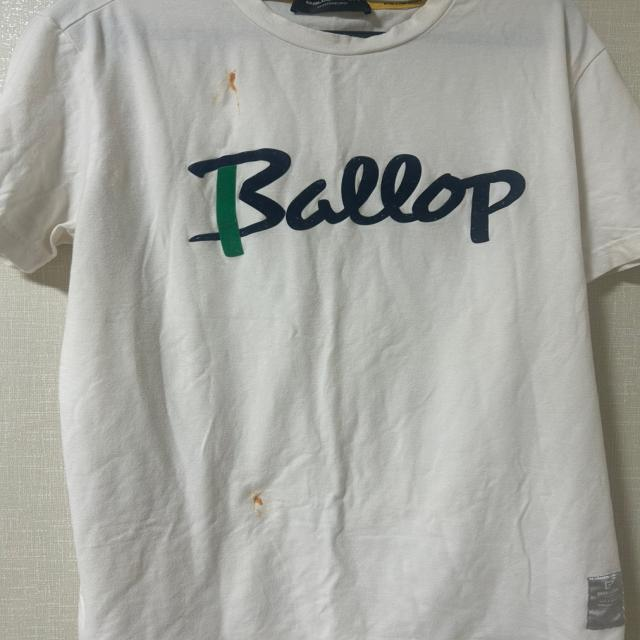stain: (220, 62, 244, 108), (245, 489, 281, 508)
